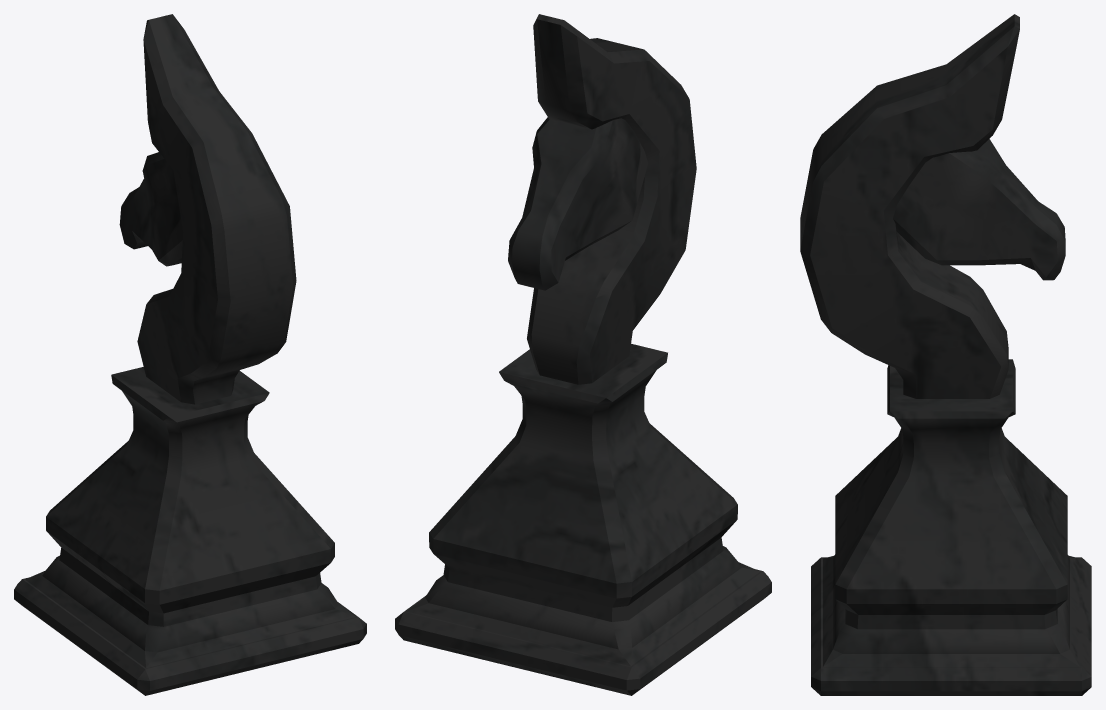
The model's file is chess_horse_01-black.glb.
3 renders of one model, left to right at view 1: azimuth 30°, elevation 25°; view 2: azimuth 150°, elevation 25°; view 3: azimuth 270°, elevation 25°, orthographic. The views are drawn at different scales.
Visible parts, largest first — view 1: horse_01; view 2: horse_01; view 3: horse_01.
Boxes of the visible parts, x1,y1,x2,y2 form: horse_01: (14,14,366,695); horse_01: (395,14,771,695); horse_01: (800,14,1091,695).
Bounding box in the file's own units: 0.5712 × 1.39 × 0.5935.
1 material, 1 textured.
